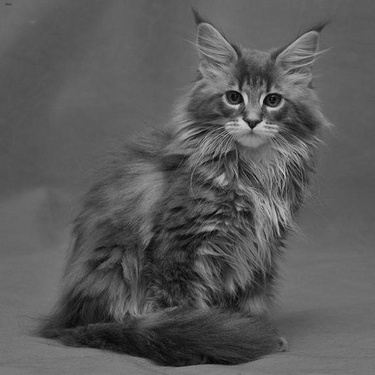cat: (36, 9, 332, 357)
